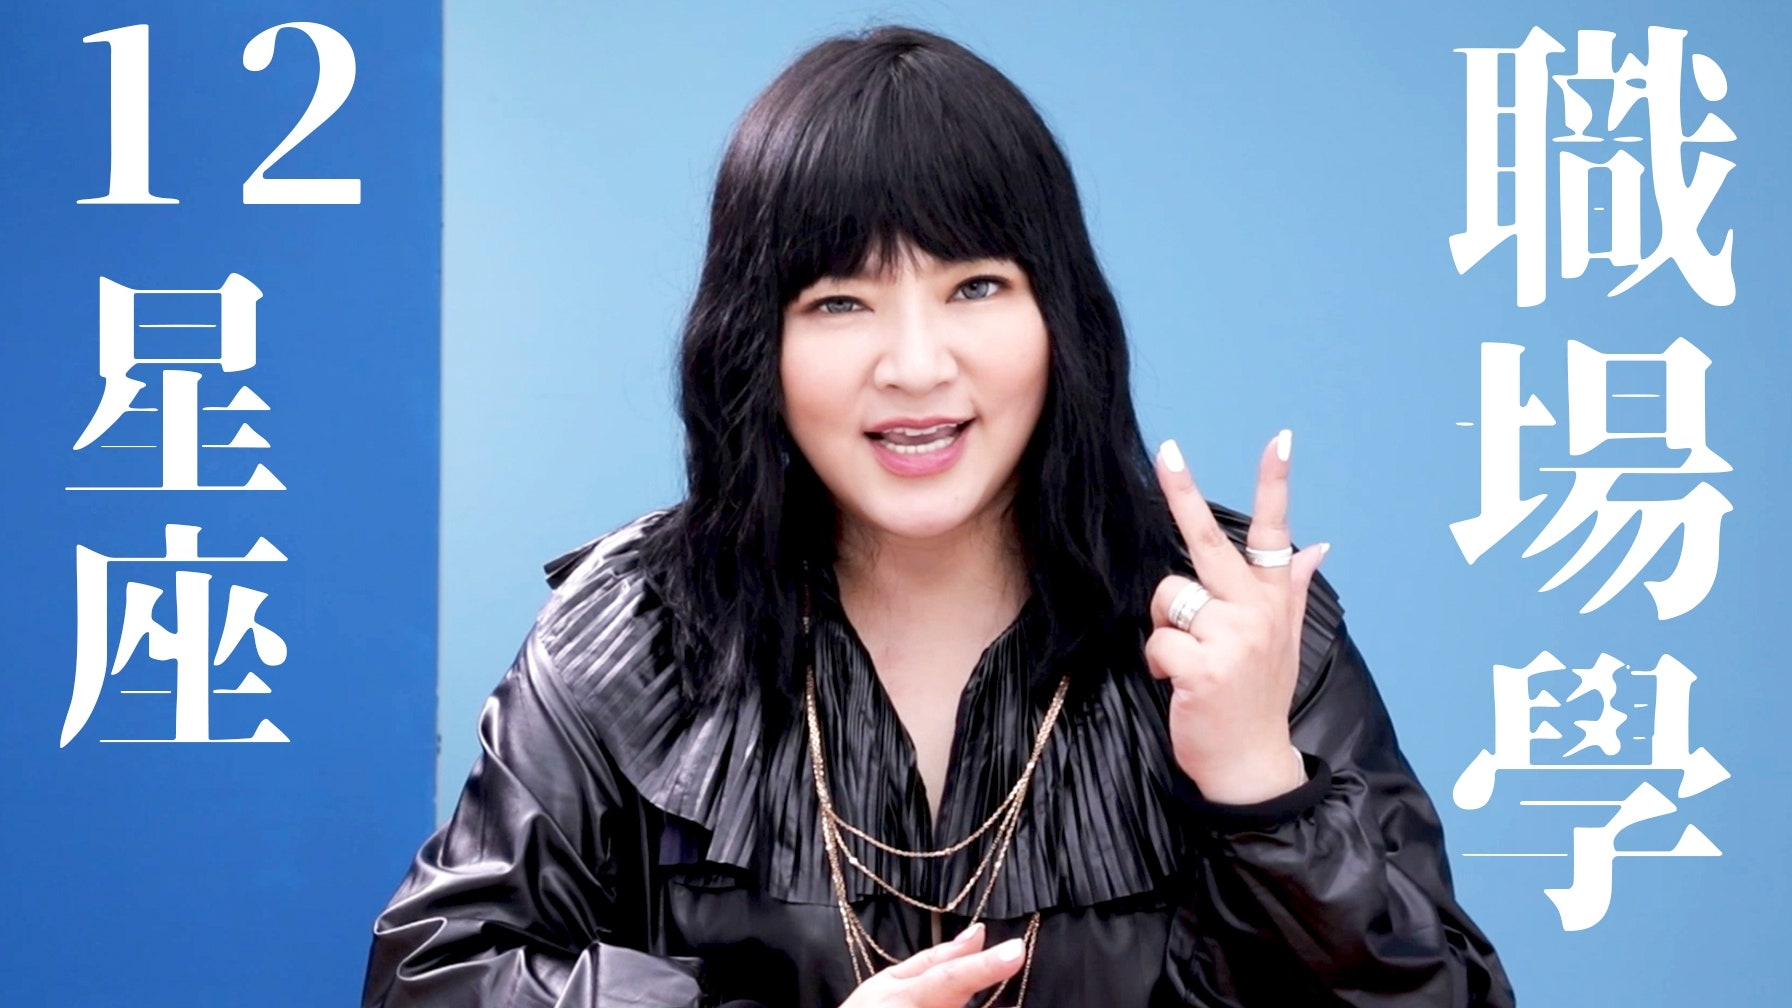v_s: (1126, 426, 1333, 785)
